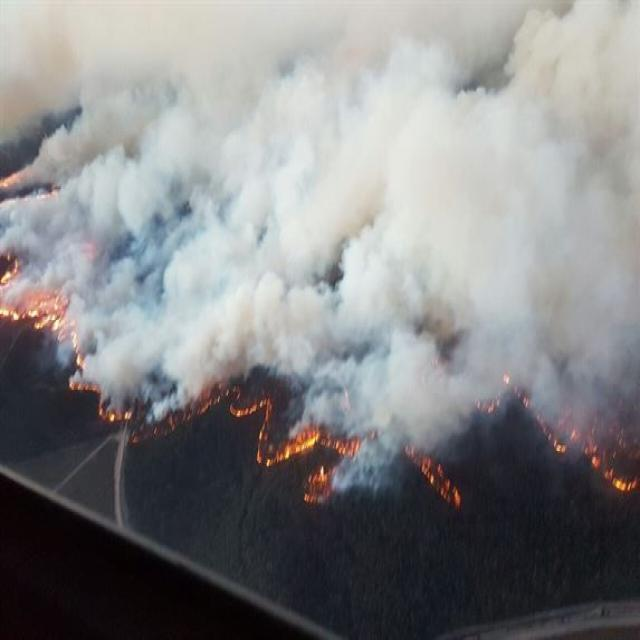Fire: (260, 406, 352, 488), (16, 264, 69, 330)
Smoke: (18, 11, 636, 422)
